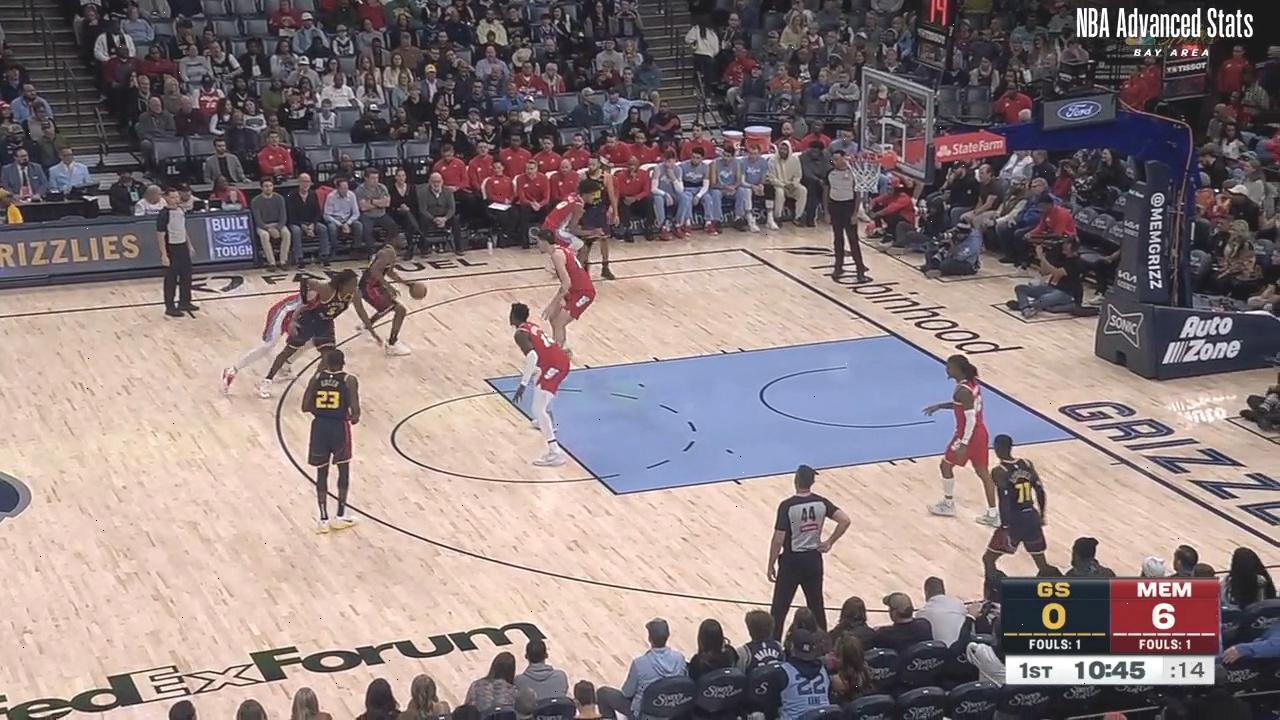basketball: (408, 282, 429, 300)
